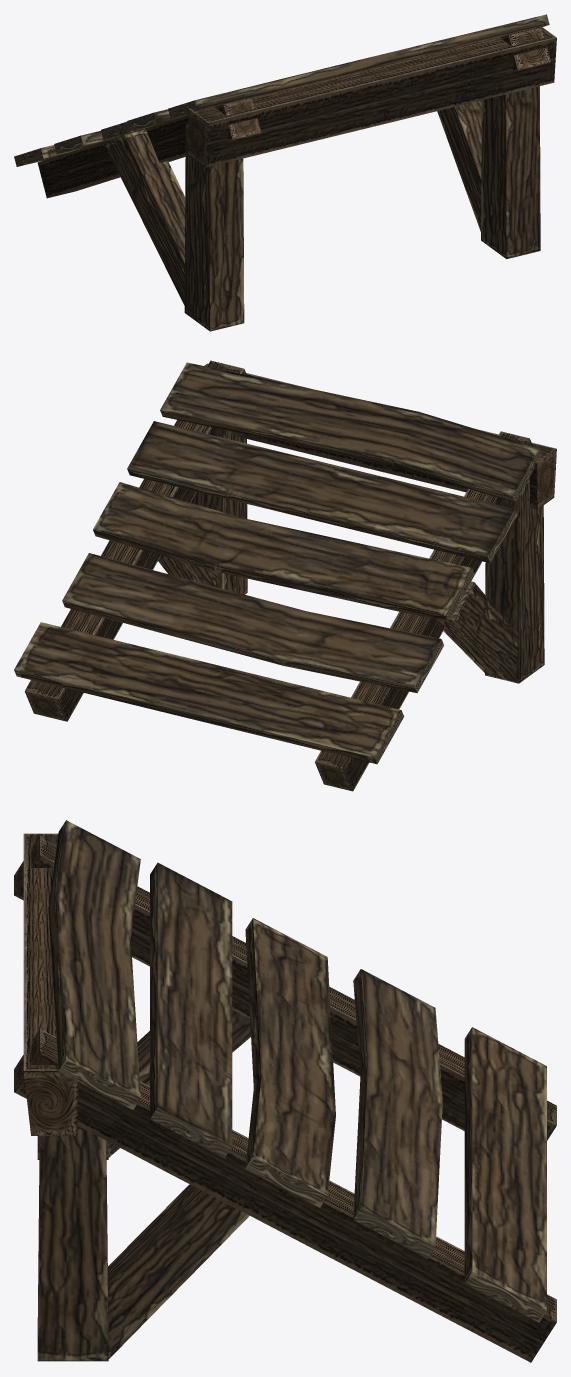
Rendered from Wood_Ramp_01.fbx.
3 renders of one model, top to bottom at view 1: azimuth 30°, elevation 25°; view 2: azimuth 150°, elevation 25°; view 3: azimuth 270°, elevation 25°, orthographic. The views are drawn at different scales.
Visible parts, largest first — view 1: Wood_Ramp_01; view 2: Wood_Ramp_01; view 3: Wood_Ramp_01.
Boxes of the visible parts, left/top/right/bottom form: Wood_Ramp_01: left=14, top=14, right=556, bottom=331; Wood_Ramp_01: left=14, top=360, right=556, bottom=791; Wood_Ramp_01: left=14, top=820, right=556, bottom=1362.
Bounding box in the file's own units: 3.88 × 2.35 × 3.64.
